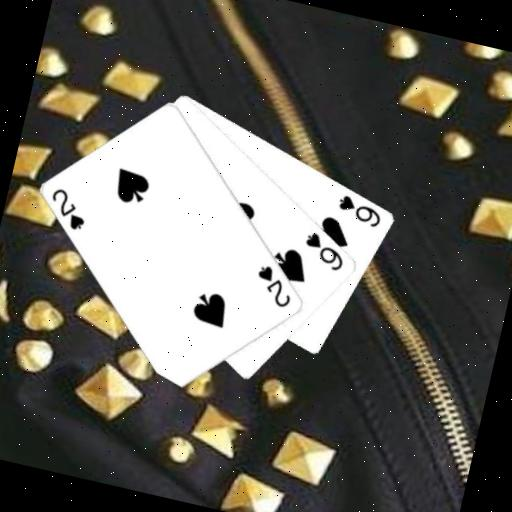2S: (249, 261, 300, 312), (43, 184, 94, 234)
6S: (298, 227, 351, 274), (332, 190, 387, 230)
